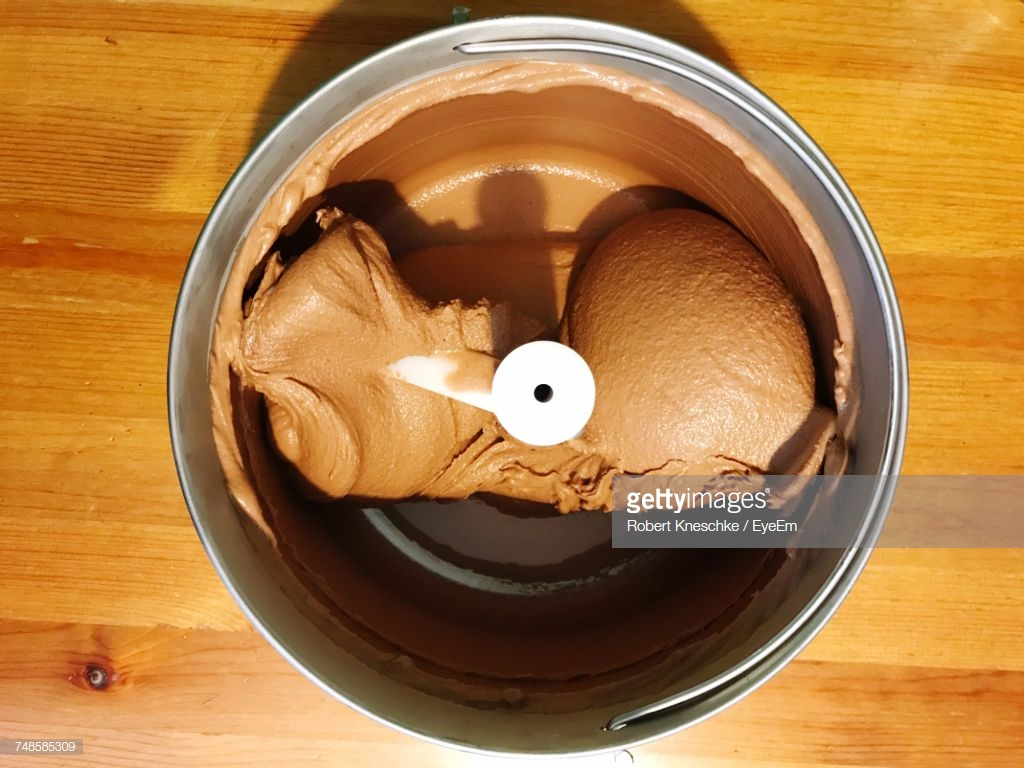ice-cream: (241, 217, 537, 506), (571, 209, 834, 511)
